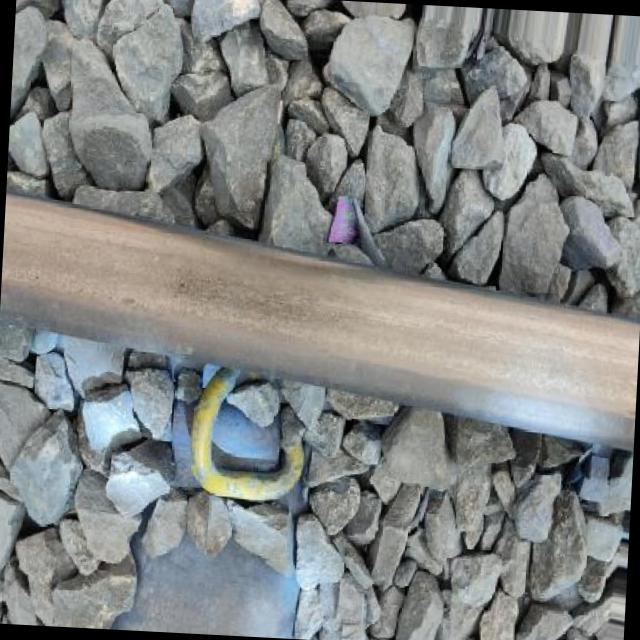non-defective: (0, 160, 640, 470)
